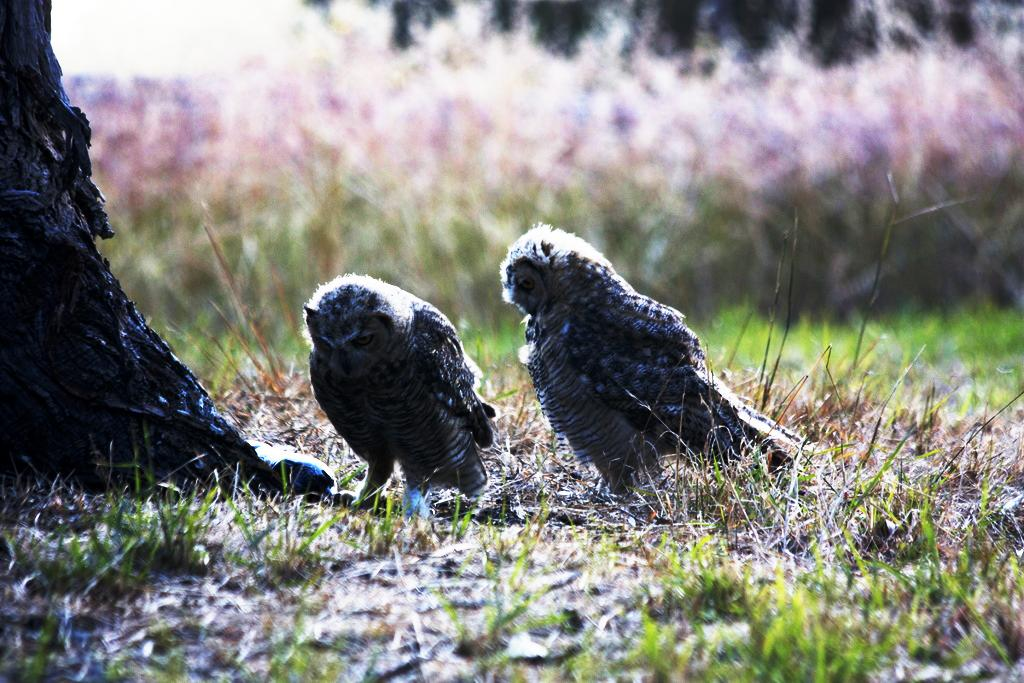Owl: (498, 218, 810, 492), (297, 272, 495, 515)
